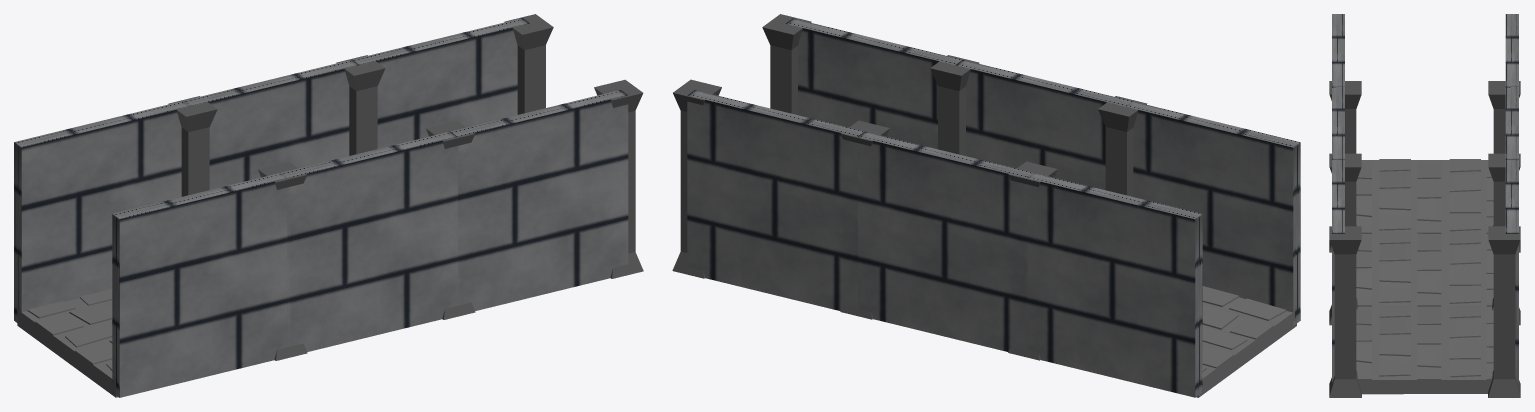
File: lange gang.fbx
3 renders of one model, left to right at view 1: azimuth 30°, elevation 25°; view 2: azimuth 150°, elevation 25°; view 3: azimuth 270°, elevation 25°, orthographic. The views are drawn at different scales.
Parts seen in each view (by area): view 1: wall.009, wall.004, wall.005, wall.008, wall.001, wall, floor.002, pilar.003, pilar, pilar.009, pilar.004, pilar.002 (+1 smaller); view 2: wall.008, wall.001, wall, wall.009, wall.005, wall.004, floor.002, pilar.004, pilar.010, pilar.002, pilar.003, pilar.009 (+1 smaller); view 3: floor.001, floor, floor.002, pilar.004, pilar.003, wall.001, wall.005, pilar, pilar.002, pilar.009, pilar.010, wall (+3 smaller).
Part boxes in pixels (x1=…): wall.009: x1=112, y1=173, x2=290, y2=397; wall.004: x1=280, y1=131, x2=458, y2=351; wall.005: x1=450, y1=90, x2=628, y2=310; wall.008: x1=14, y1=101, x2=191, y2=322; wall.001: x1=352, y1=18, x2=529, y2=148; wall: x1=182, y1=59, x2=358, y2=189; floor.002: x1=17, y1=289, x2=117, y2=397; pilar.003: x1=504, y1=14, x2=553, y2=114; pilar: x1=336, y1=55, x2=385, y2=155; pilar.009: x1=168, y1=96, x2=217, y2=196; pilar.004: x1=594, y1=79, x2=643, y2=278; pilar.002: x1=426, y1=121, x2=475, y2=319; wall.008: x1=1025, y1=173, x2=1202, y2=397; wall.001: x1=687, y1=90, x2=864, y2=310; wall: x1=857, y1=131, x2=1034, y2=351; wall.009: x1=1126, y1=101, x2=1300, y2=325; wall.005: x1=785, y1=18, x2=962, y2=149; wall.004: x1=955, y1=60, x2=1132, y2=190; floor.002: x1=1196, y1=286, x2=1296, y2=397; pilar.004: x1=762, y1=14, x2=811, y2=114; pilar.010: x1=1098, y1=96, x2=1147, y2=196; pilar.002: x1=930, y1=55, x2=979, y2=155; pilar.003: x1=672, y1=79, x2=721, y2=278; pilar.009: x1=1008, y1=161, x2=1057, y2=360; floor.001: x1=1356, y1=305, x2=1493, y2=394; floor: x1=1356, y1=231, x2=1493, y2=306; floor.002: x1=1356, y1=159, x2=1493, y2=233; pilar.004: x1=1329, y1=226, x2=1361, y2=397; pilar.003: x1=1488, y1=226, x2=1520, y2=397; wall.001: x1=1505, y1=160, x2=1518, y2=385; wall.005: x1=1332, y1=160, x2=1344, y2=382; pilar: x1=1488, y1=153, x2=1520, y2=325; pilar.002: x1=1329, y1=153, x2=1361, y2=325; pilar.009: x1=1488, y1=81, x2=1520, y2=252; pilar.010: x1=1329, y1=81, x2=1361, y2=252; wall: x1=1505, y1=86, x2=1518, y2=159.
Bounding box in the file's own units: 612 × 203 × 219.
